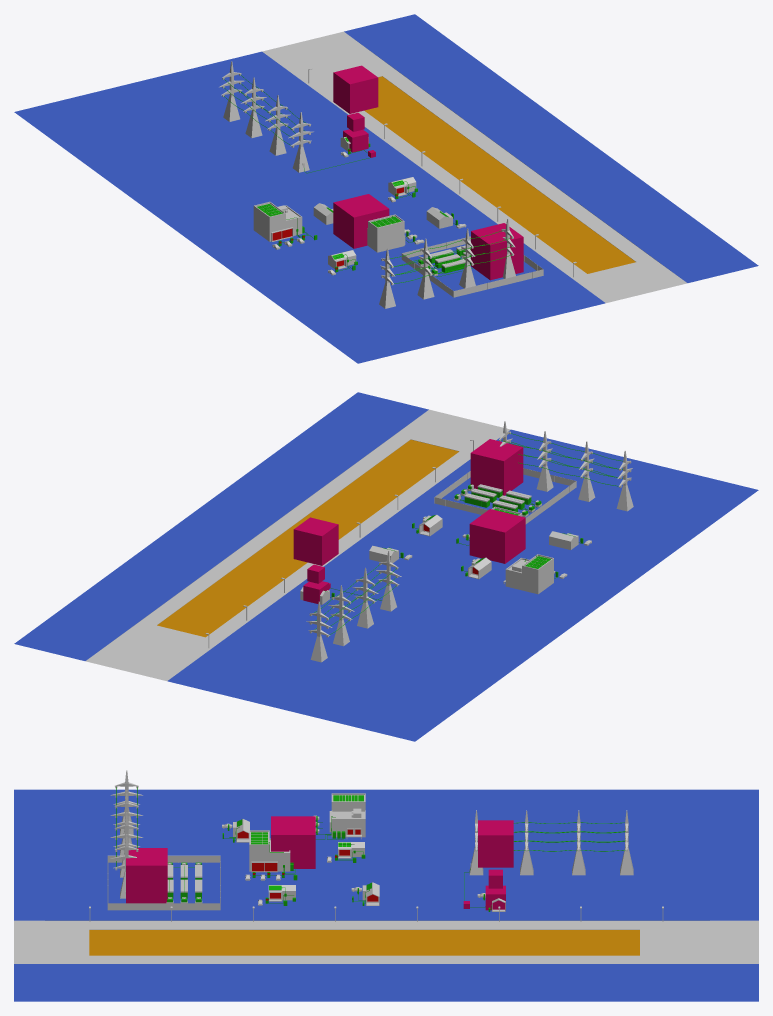
Rendered from sg_connect_scroll_explainer.obj.
3 renders of one model, top to bottom at view 1: azimuth 30°, elevation 25°; view 2: azimuth 150°, elevation 25°; view 3: azimuth 270°, elevation 25°, orthographic. The views are drawn at different scales.
Parts seen in each view (by area): view 1: Plane.013, Target_05, Target_04, Target_03, 3-For_Investors.009, 2-For_Business.021, 2-For_Business.022, FNL_ENE_Transmission_Pylon_02.029, FNL_ENE_Transmission_Pylon_04.029, FNL_ENE_Transmission_Pylon_01.018, FNL_ENE_Transmission_Pylon_03.029; view 2: Plane.013, Target_04, Target_05, Target_03, 2-For_Business.021, 3-For_Investors.009, FNL_ENE_Transmission_Pylon_03.029, FNL_ENE_Transmission_Pylon_04.029, FNL_ENE_Transmission_Pylon_02.029, FNL_ENE_Transmission_Pylon_01.018; view 3: Plane.013, Target_05, Target_04, Target_03, 3-For_Investors.009, 2-For_Business.021, 2-For_Business.022, Target_01, FNL_ENE_Transmission_Pylon_02.029, FNL_ENE_Transmission_Pylon_03.029, FNL_ENE_Transmission_Pylon_04.029, FNL_ENE_Transmission_Pylon_03.033 (+1 smaller).
Part boxes in pixels (x1,y1,x2,y2): Plane.013: [14, 14, 758, 363]; Target_05: [471, 223, 523, 280]; Target_04: [333, 194, 389, 248]; Target_03: [333, 65, 378, 113]; 3-For_Investors.009: [401, 236, 543, 297]; 2-For_Business.021: [253, 201, 302, 241]; 2-For_Business.022: [367, 214, 405, 252]; FNL_ENE_Transmission_Pylon_02.029: [265, 95, 290, 155]; FNL_ENE_Transmission_Pylon_04.029: [219, 61, 244, 121]; FNL_ENE_Transmission_Pylon_01.018: [288, 112, 313, 172]; FNL_ENE_Transmission_Pylon_03.029: [241, 77, 266, 138]; Plane.013: [14, 392, 758, 741]; Target_04: [469, 509, 525, 563]; Target_05: [470, 439, 523, 495]; Target_03: [293, 517, 338, 565]; 2-For_Business.021: [505, 554, 553, 594]; 3-For_Investors.009: [434, 468, 576, 524]; FNL_ENE_Transmission_Pylon_03.029: [328, 585, 354, 646]; FNL_ENE_Transmission_Pylon_04.029: [306, 601, 332, 662]; FNL_ENE_Transmission_Pylon_02.029: [352, 568, 378, 628]; FNL_ENE_Transmission_Pylon_01.018: [376, 551, 401, 611]; Plane.013: [14, 789, 758, 1001]; Target_05: [126, 848, 167, 903]; Target_04: [271, 816, 315, 868]; Target_03: [478, 820, 513, 867]; 3-For_Investors.009: [107, 855, 220, 910]; 2-For_Business.021: [329, 793, 365, 837]; 2-For_Business.022: [249, 830, 290, 872]; Target_01: [485, 885, 505, 910]; FNL_ENE_Transmission_Pylon_02.029: [520, 810, 533, 875]; FNL_ENE_Transmission_Pylon_03.029: [572, 810, 585, 875]; FNL_ENE_Transmission_Pylon_04.029: [620, 810, 633, 875]; FNL_ENE_Transmission_Pylon_03.033: [110, 790, 142, 855].
Bounding box in the file's own units: 73.52 × 13.69 × 109.
